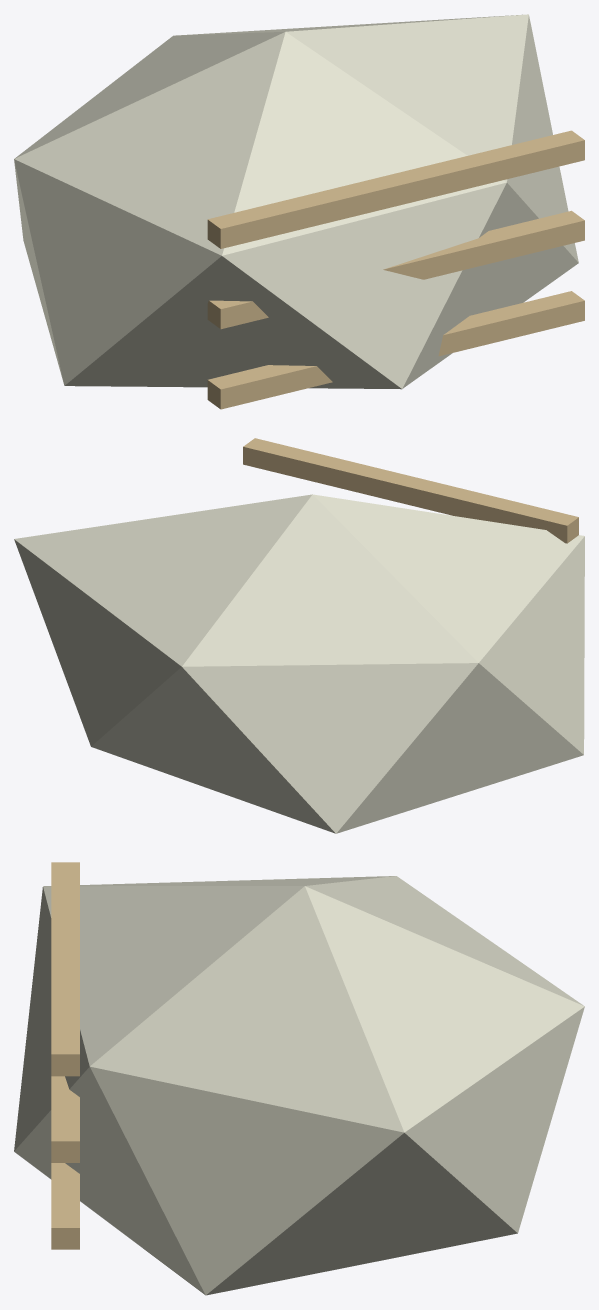
The model's file is limestone.glb.
3 views of the same model, one above another, from view 1: azimuth 30°, elevation 25°; view 2: azimuth 150°, elevation 25°; view 3: azimuth 270°, elevation 25° (orthographic). The views are drawn at different scales.
Visible parts, largest first — view 1: limestone / Limestone and lime, limestone / Sand and paper; view 2: limestone / Limestone and lime, limestone / Sand and paper; view 3: limestone / Limestone and lime, limestone / Sand and paper.
Part boxes in pixels (x1=…): limestone / Limestone and lime: x1=14, y1=14, x2=578, y2=389; limestone / Sand and paper: x1=207, y1=130, x2=584, y2=409; limestone / Limestone and lime: x1=14, y1=494, x2=584, y2=833; limestone / Sand and paper: x1=243, y1=438, x2=578, y2=543; limestone / Limestone and lime: x1=14, y1=876, x2=584, y2=1295; limestone / Sand and paper: x1=51, y1=862, x2=79, y2=1249.
Size of the model in its own units: 0.2883 by 0.1714 by 0.2387.
